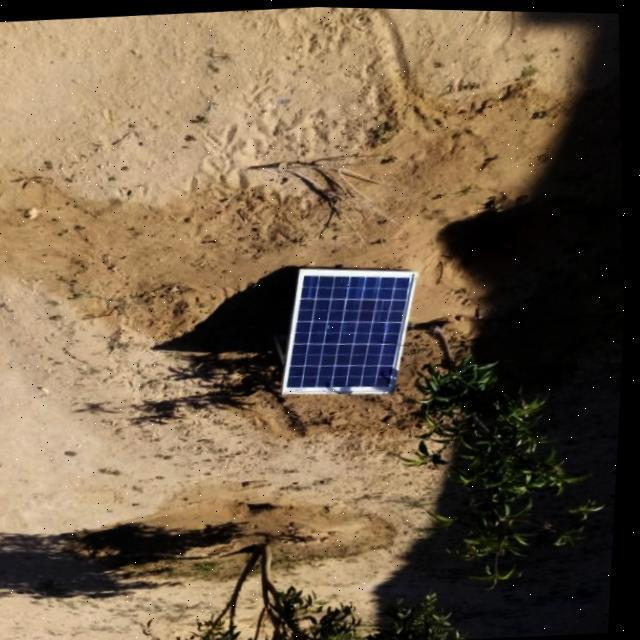Normal Solar Panel: (276, 258, 427, 398)
